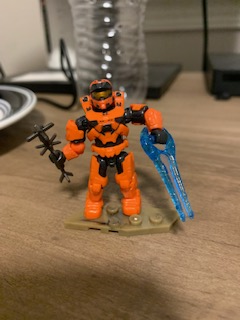spartan: (48, 78, 165, 218)
